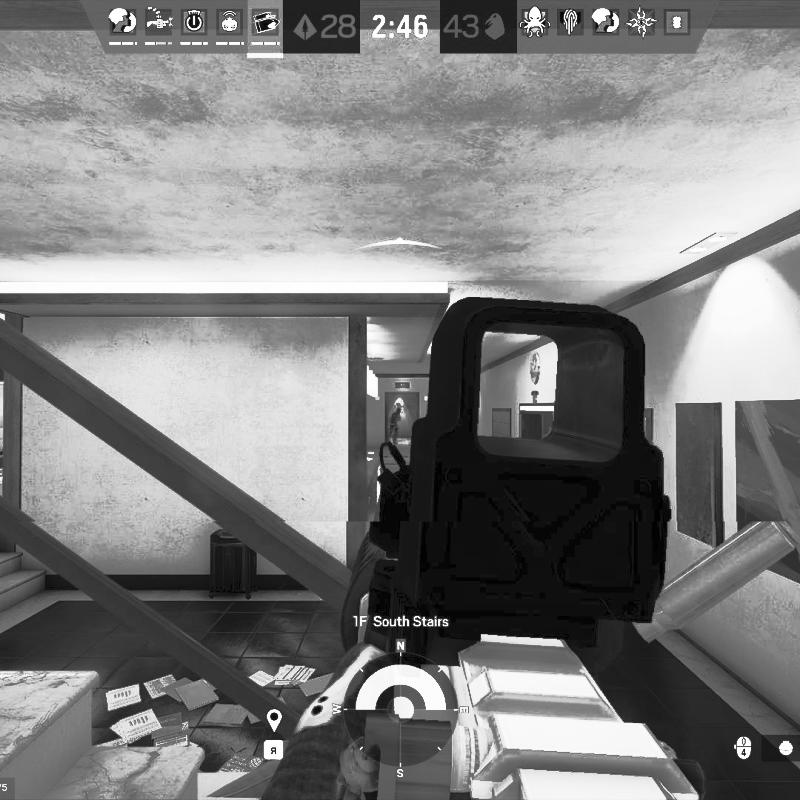Character: (385, 405, 404, 447)
Head: (395, 407, 402, 415)
